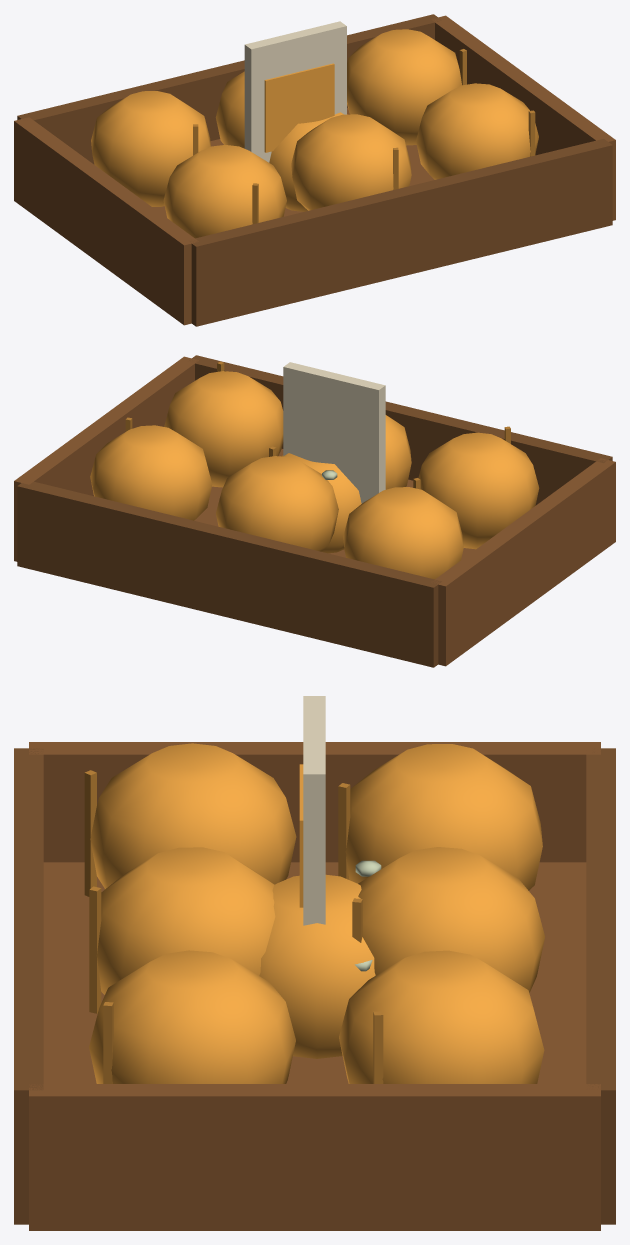
The model's file is Fruit_Apricot.fbx.
The picture shows the model from 3 angles, top to bottom: view 1: azimuth 30°, elevation 25°; view 2: azimuth 150°, elevation 25°; view 3: azimuth 270°, elevation 25°; orthographic projection. The views are drawn at different scales.
Parts seen in each view (by area): view 1: Fruit_Apricot__Stack, Fruit_Apricot__Seed, Fruit_Apricot; view 2: Fruit_Apricot__Stack, Fruit_Apricot__Seed, Fruit_Apricot; view 3: Fruit_Apricot__Stack, Fruit_Apricot, Fruit_Apricot__Seed.
Part boxes in pixels (box(x1,y1,x2,y2)): Fruit_Apricot__Stack: box(14, 14, 615, 326); Fruit_Apricot__Seed: box(244, 21, 346, 162); Fruit_Apricot: box(269, 112, 347, 211); Fruit_Apricot__Stack: box(14, 355, 615, 667); Fruit_Apricot__Seed: box(283, 362, 385, 503); Fruit_Apricot: box(281, 453, 361, 553); Fruit_Apricot__Stack: box(14, 742, 615, 1230); Fruit_Apricot: box(259, 874, 375, 1058); Fruit_Apricot__Seed: box(299, 696, 325, 925).
Bounding box in the file's own units: 0.226 × 0.09 × 0.1622.
